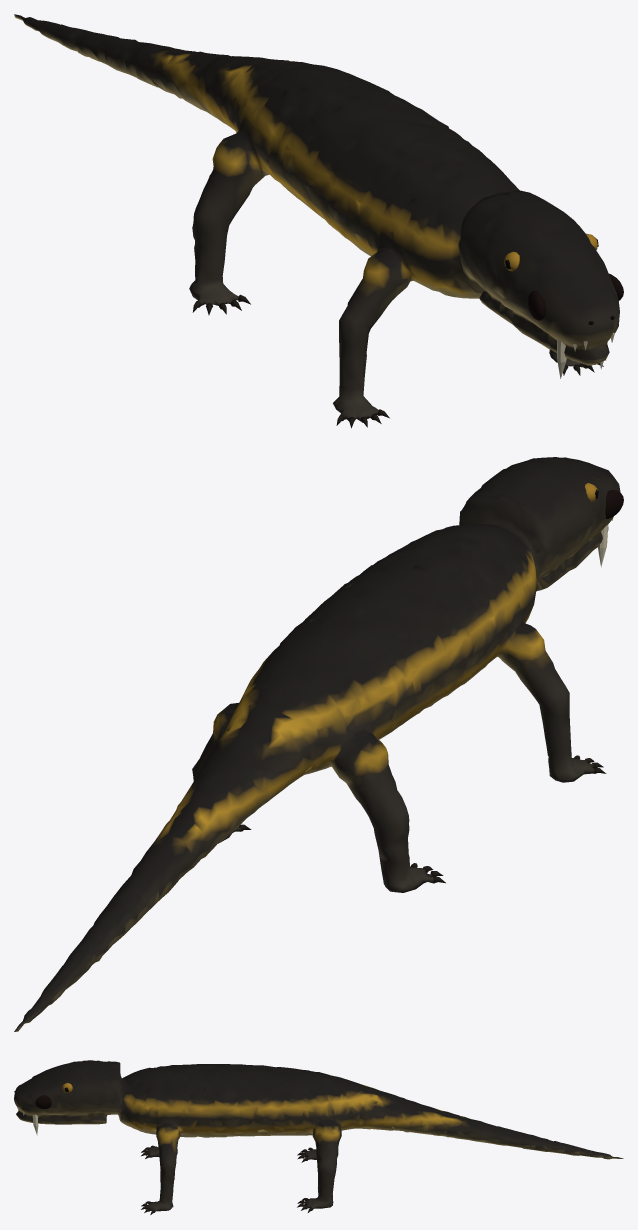
The model's file is Euchambersia.fbx.
3 views of the same model, one above another, from view 1: azimuth 30°, elevation 25°; view 2: azimuth 150°, elevation 25°; view 3: azimuth 270°, elevation 25° (orthographic). The views are drawn at different scales.
Parts seen in each view (by area): view 1: Euchambersia; view 2: Euchambersia; view 3: Euchambersia.
Part boxes in pixels (x1,y1,x2,y2): Euchambersia: (14,14,623,428); Euchambersia: (14,457,623,1031); Euchambersia: (14,1060,623,1214).
Bounding box in the file's own units: 0.4666 × 0.3773 × 1.76.
